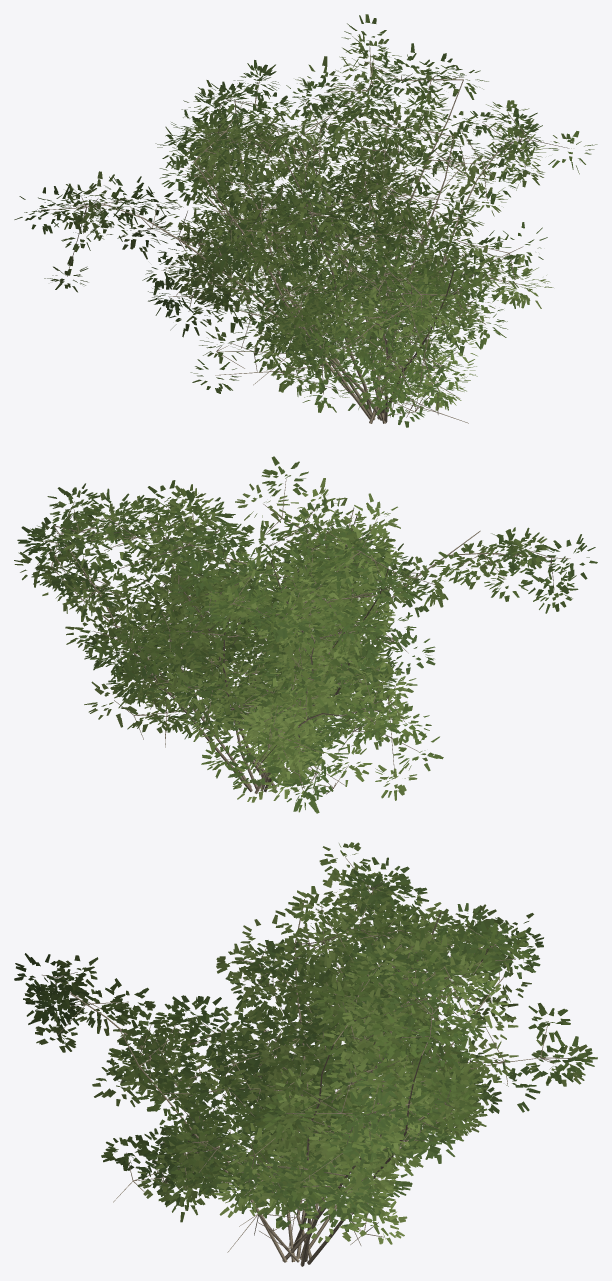
Rendered from lime2.glb.
The picture shows the model from 3 angles, top to bottom: view 1: azimuth 30°, elevation 25°; view 2: azimuth 150°, elevation 25°; view 3: azimuth 270°, elevation 25°; orthographic projection. The views are drawn at different scales.
Parts seen in each view (by area): view 1: lime2_lod0_1, lime2_lod0_0; view 2: lime2_lod0_1, lime2_lod0_0; view 3: lime2_lod0_1, lime2_lod0_0.
Boxes of the visible parts, x1,y1,x2,y2 form: lime2_lod0_1: (14,14,597,427); lime2_lod0_0: (41,41,569,423); lime2_lod0_1: (14,456,597,813); lime2_lod0_0: (37,479,570,794); lime2_lod0_1: (14,842,597,1244); lime2_lod0_0: (42,857,571,1266).
Size of what is drawn, in the model's own units: 6.74 by 4.54 by 6.75.
Materials: 2 (1 with a texture image).
